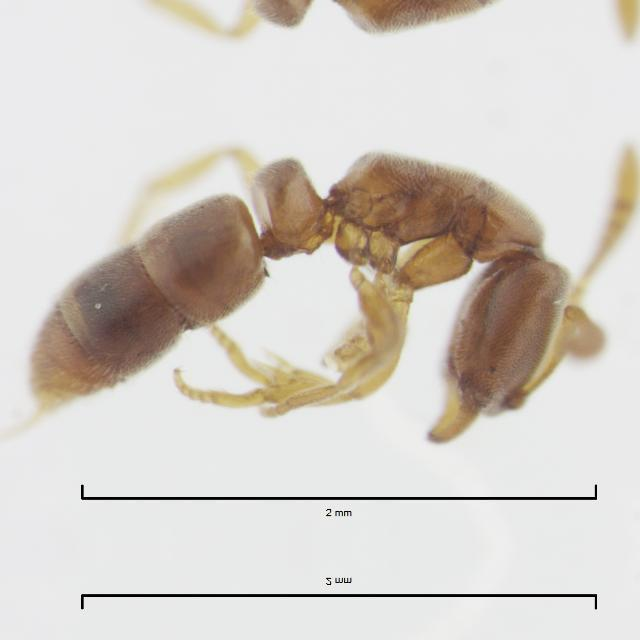Ponera: (9, 109, 624, 472), (8, 0, 623, 74)
